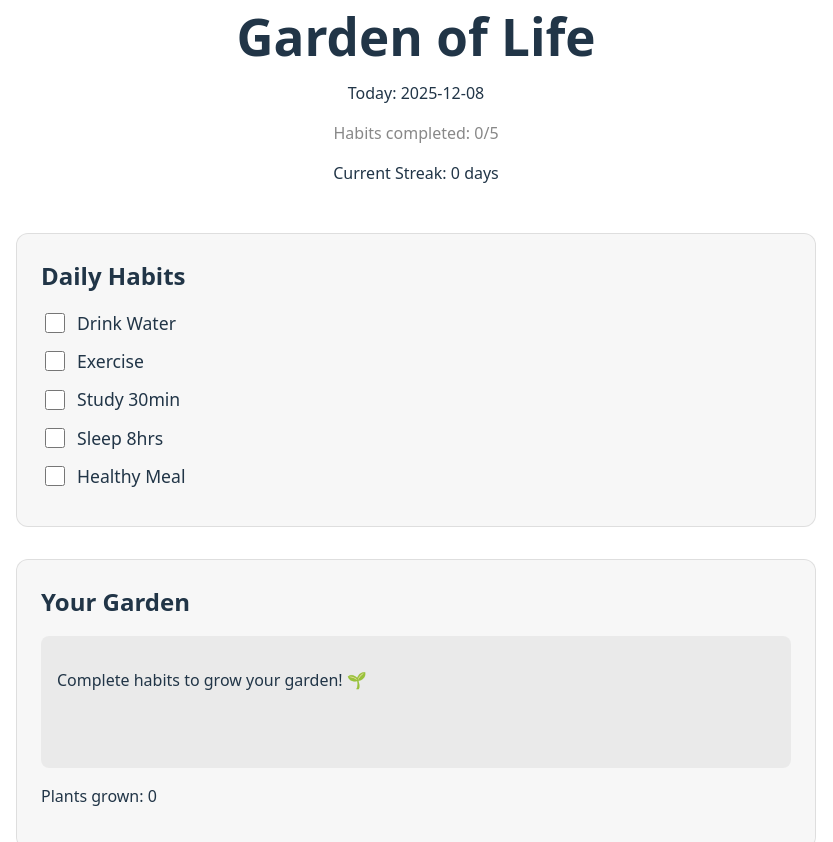
Test: TC04 - Garden Data & Progress Persists After Refresh › should persist garden plants after unmount and remount
Complete 3 habits (should add 3 plants)
Click the checkbox with test id "habit-drink-water".
click(55, 323)  # box [45,313,65,333]
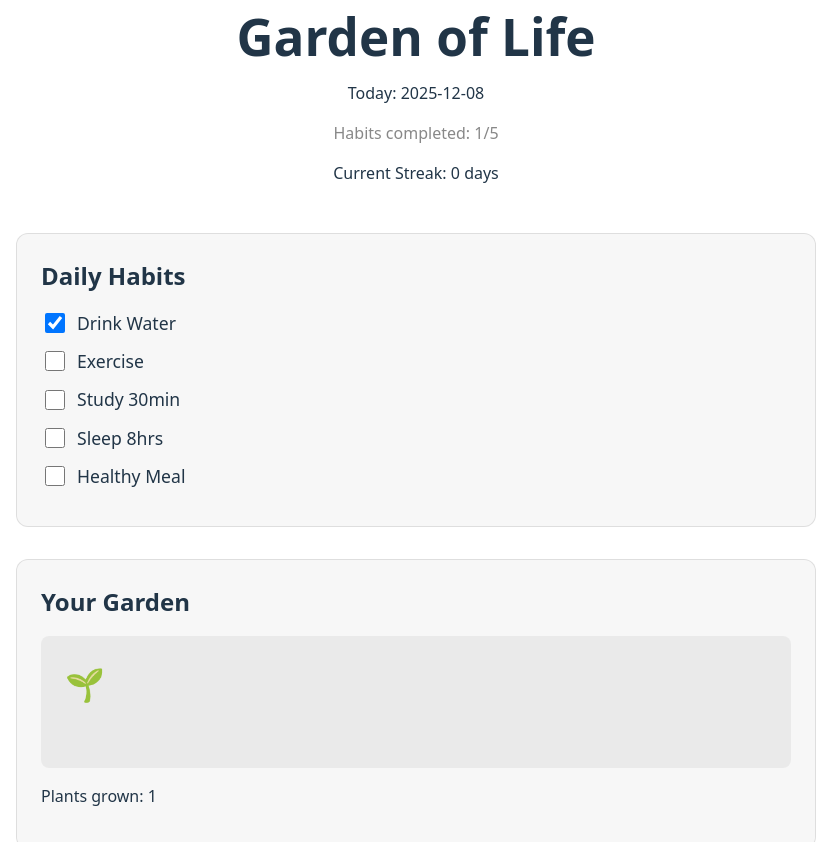
Click the checkbox with test id "habit-exercise".
click(55, 361)  # box [45,351,65,371]
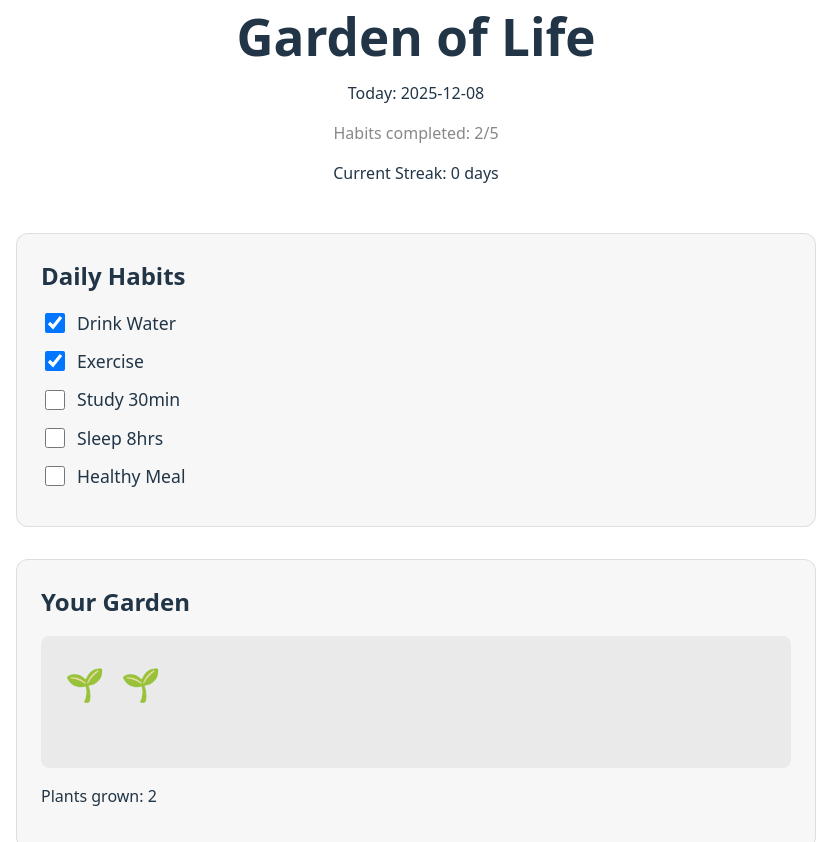
Click the checkbox with test id "habit-study-30".
click(55, 400)  # box [45,390,65,410]
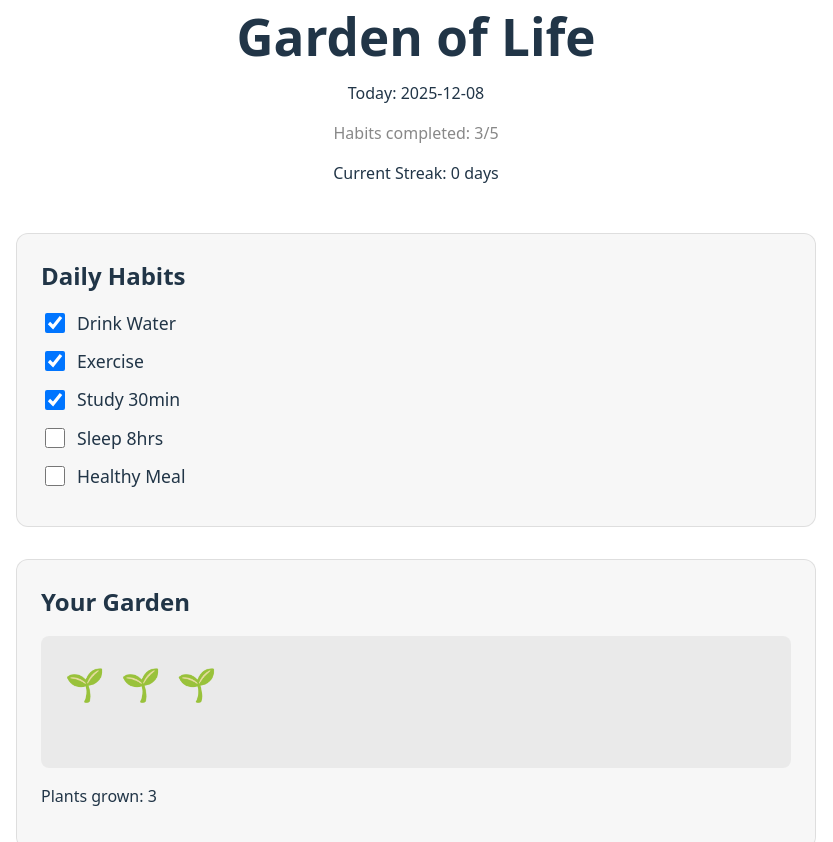
Check: the number of pictures is 3, box [65,660,105,708]; [121,660,161,708]; [177,660,217,708]
